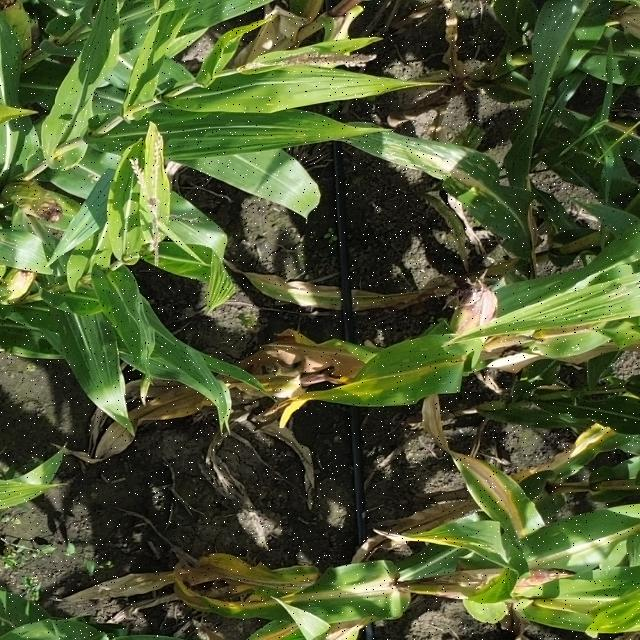gray-leaf-spot: (395, 133, 534, 230), (84, 328, 194, 384)
northern-leaf-blight: (438, 426, 530, 531), (311, 356, 471, 397)
